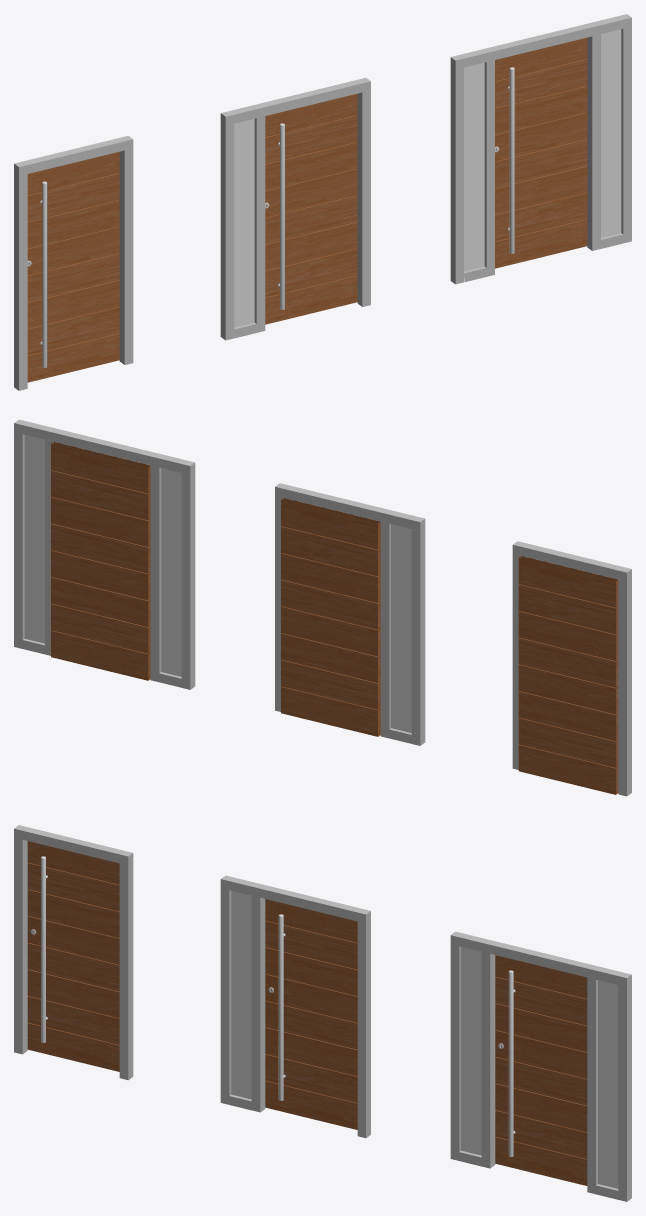
The model's file is PuertaModerna1.fbx.
3 renders of one model, top to bottom at view 1: azimuth 30°, elevation 25°; view 2: azimuth 150°, elevation 25°; view 3: azimuth 330°, elevation 25°, orthographic.
Visible parts, largest first — view 1: Marco 182x220, Puerta 150x220, Puerta 118x220, Puerta 182x220, Marco150x220, Marco 118x220; view 2: Puerta 118x220, Puerta 182x220, Puerta 150x220, Marco 182x220, Marco150x220, Marco 118x220; view 3: Marco 182x220, Puerta 118x220, Puerta 150x220, Puerta 182x220, Marco150x220, Marco 118x220.
Boxes of the visible parts, x1,y1,x2,y2 form: Marco 182x220: (450, 14, 631, 284); Puerta 150x220: (265, 93, 357, 324); Puerta 118x220: (27, 151, 119, 382); Puerta 182x220: (495, 37, 587, 268); Marco150x220: (220, 77, 370, 340); Marco 118x220: (14, 135, 133, 390); Puerta 118x220: (518, 556, 618, 794); Puerta 182x220: (51, 442, 150, 680); Puerta 150x220: (281, 498, 380, 736); Marco 182x220: (14, 419, 195, 689); Marco150x220: (275, 483, 425, 745); Marco 118x220: (512, 541, 631, 796); Marco 182x220: (450, 931, 631, 1201); Puerta 118x220: (27, 841, 119, 1071); Puerta 150x220: (265, 899, 357, 1129); Puerta 182x220: (495, 955, 587, 1185); Marco150x220: (220, 875, 370, 1138); Marco 118x220: (14, 825, 133, 1080).
Bounding box in the file's own units: 631 × 220 × 13.41.
